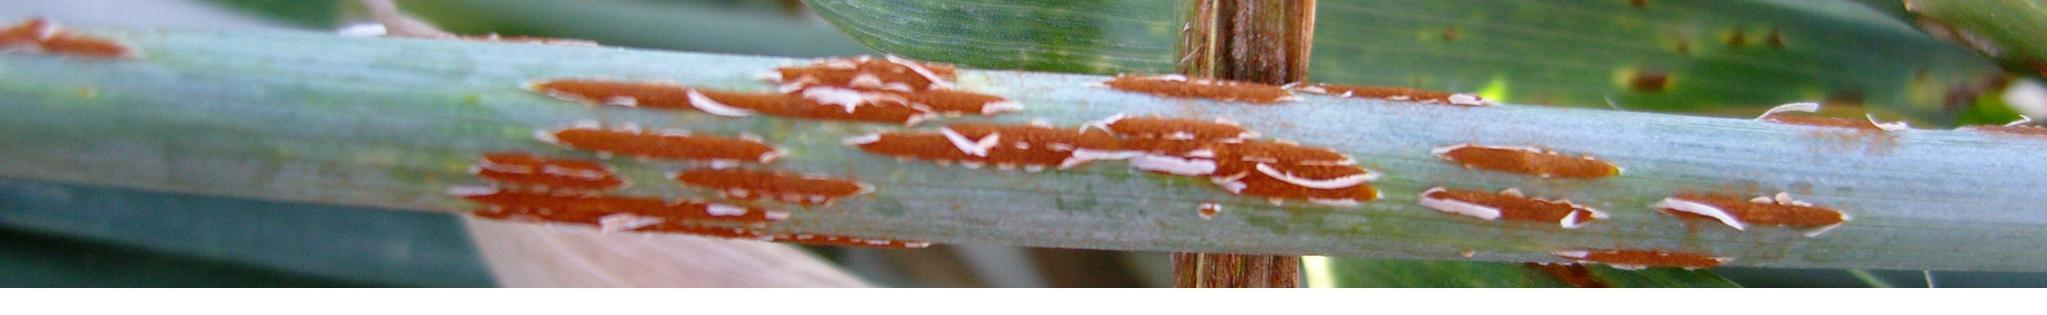Wheat: (426, 39, 1903, 269)
